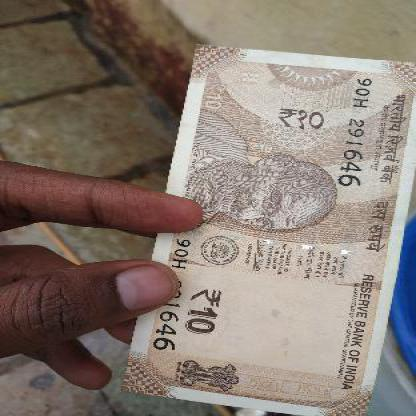New10Front: (153, 43, 415, 408)
